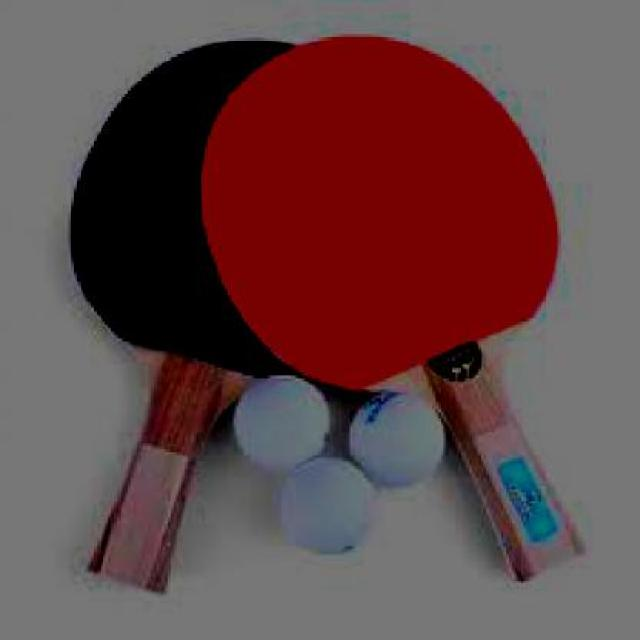table_tennis_racket: (194, 33, 569, 388), (37, 25, 349, 400)
